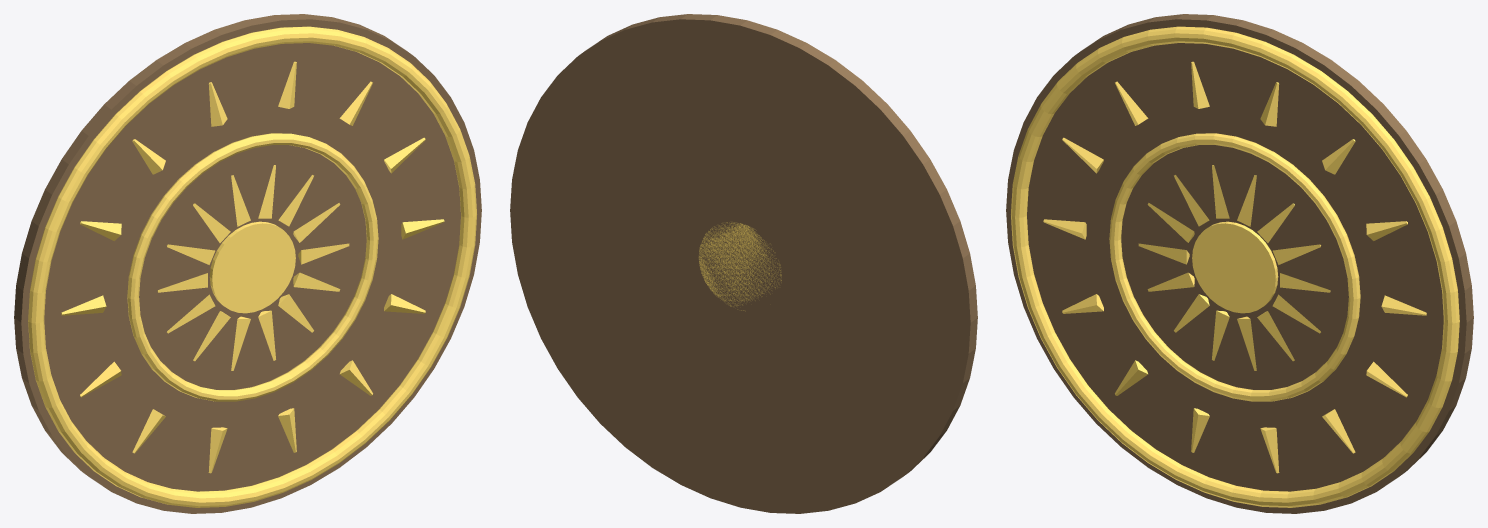
Rendered from wall_dong_son_medallion.glb.
3 renders of one model, left to right at view 1: azimuth 30°, elevation 25°; view 2: azimuth 150°, elevation 25°; view 3: azimuth 330°, elevation 25°, orthographic.
Visible parts, largest first — view 1: Cylinder, Torus, Torus.001, Cylinder.001; view 2: Cylinder, Cylinder.001; view 3: Cylinder, Torus, Torus.001, Cylinder.001.
Part boxes in pixels (left/top/right/bottom): Cylinder: left=14, top=14, right=481, bottom=513; Torus: left=28, top=26, right=476, bottom=507; Torus.001: left=127, top=133, right=378, bottom=401; Cylinder.001: left=209, top=221, right=295, bottom=313; Cylinder: left=510, top=14, right=977, bottom=513; Cylinder.001: left=698, top=222, right=781, bottom=311; Cylinder: left=1006, top=14, right=1473, bottom=513; Torus: left=1011, top=26, right=1459, bottom=507; Torus.001: left=1109, top=133, right=1360, bottom=401; Cylinder.001: left=1192, top=221, right=1278, bottom=313.
Bounding box in the file's own units: 2.2 × 2.2 × 0.1.
